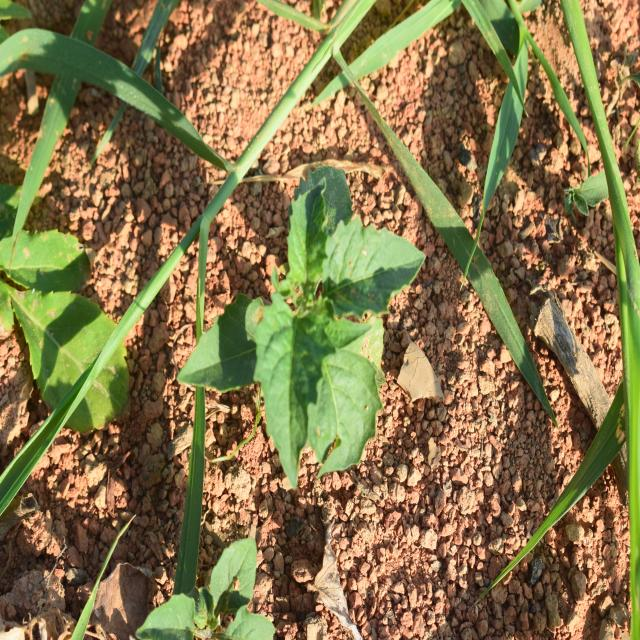Black_nightshade: (214, 188, 424, 504)
